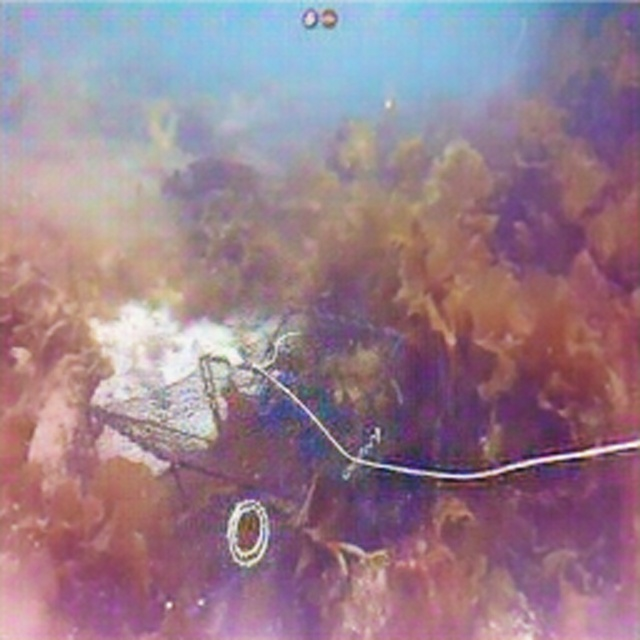mine: (91, 302, 413, 586)
